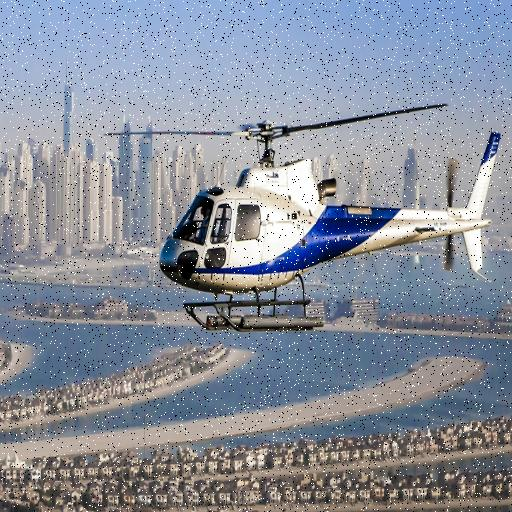helicopter: (106, 76, 512, 350)
